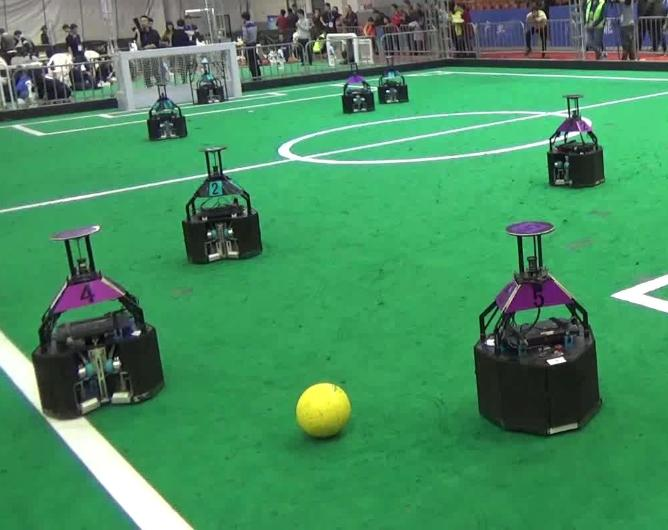robot: (465, 216, 609, 439), (26, 221, 168, 419), (174, 142, 267, 265), (539, 89, 612, 191)
